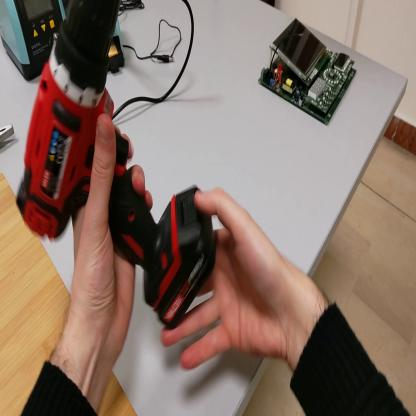electric screwdriver: (22, 2, 205, 308)
hand: (162, 187, 299, 372), (70, 115, 155, 364)
low voltage board: (256, 18, 358, 124)
pliers: (2, 123, 17, 149)
welder base: (109, 16, 127, 77)
welder station: (1, 1, 69, 80)
working area: (1, 173, 137, 415)
